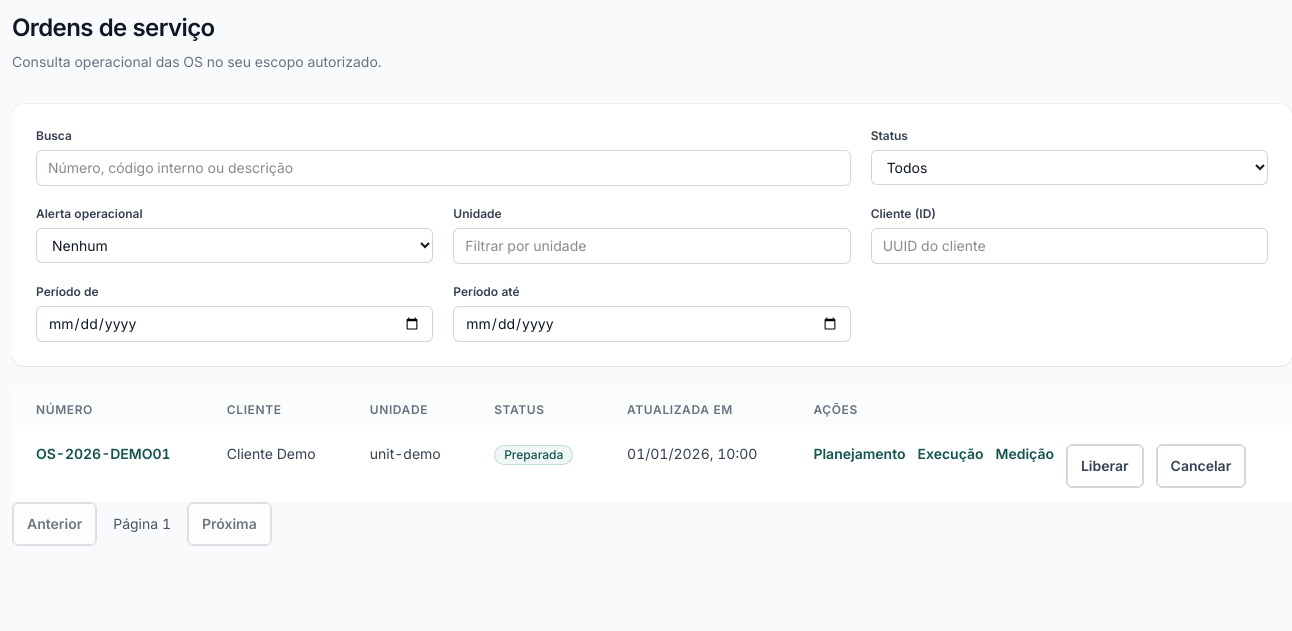
Test: ServiceOrdersListPage › releases a prepared order (Liberar on PREPARED moves to RELEASED)
What coordinates should you click on to do the following:
click the button "Liberar"
I would click on:
 (1105, 466)
Its box is [1066,444,1144,488].
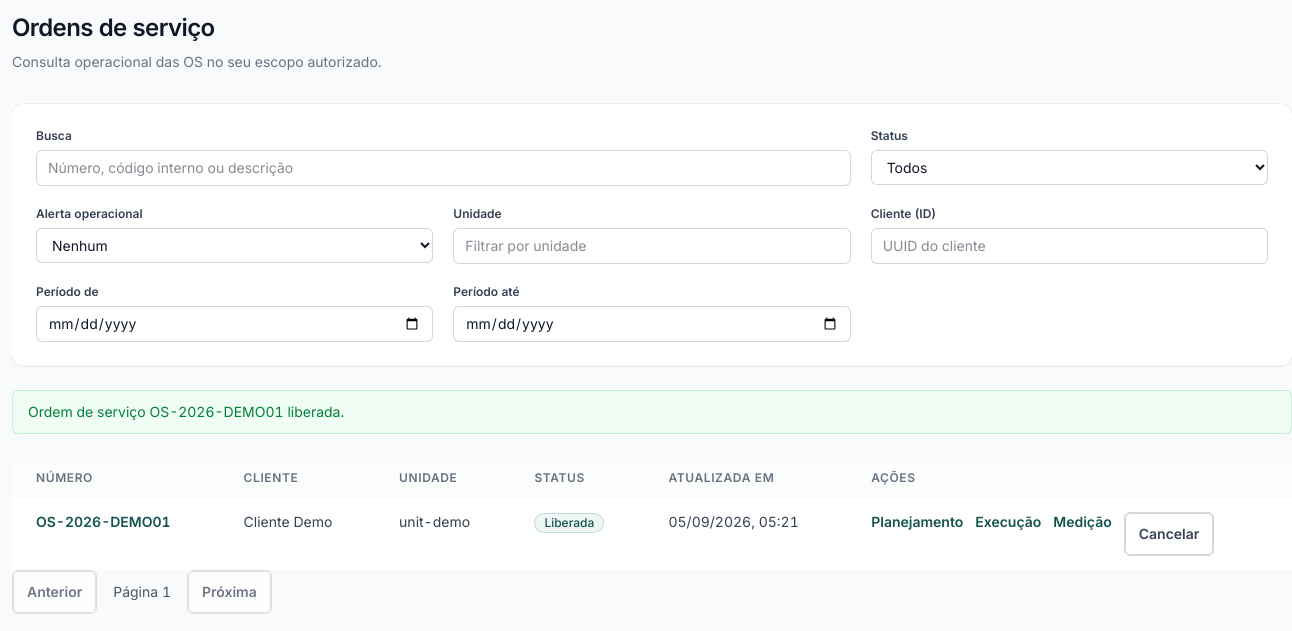
Expected: the text named "Status: Liberada" is shown, [534,513,604,533]
